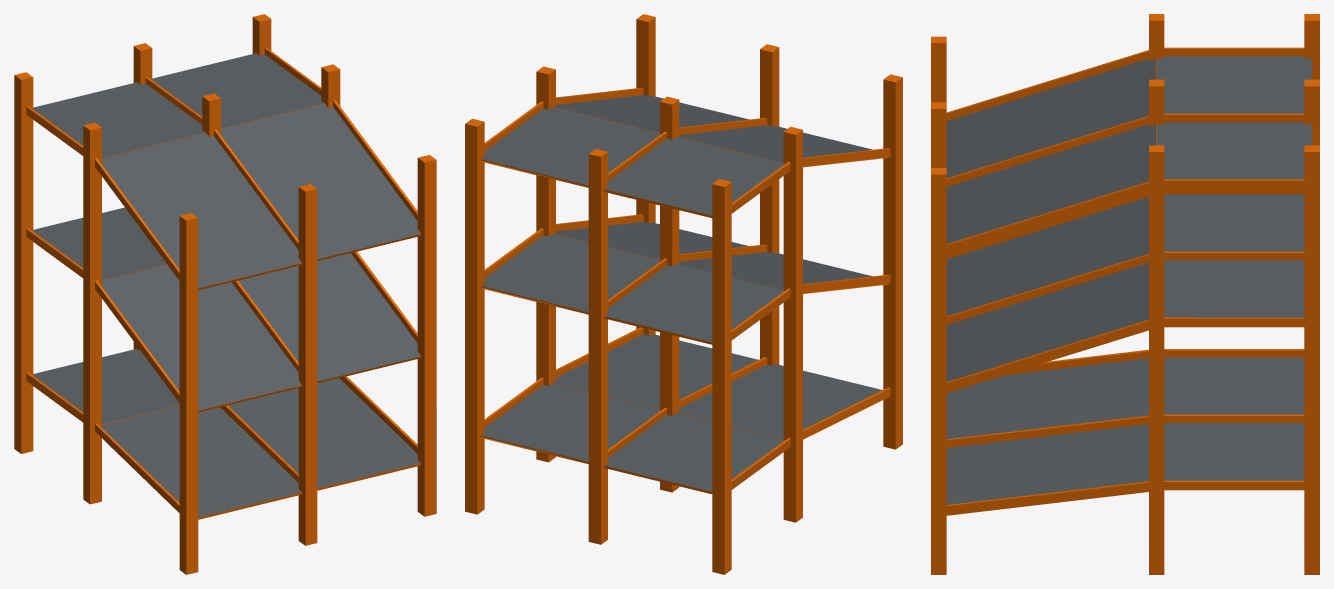
Rendered from Container_Rack_2x3.dae.
The picture shows the model from 3 angles, left to right: view 1: azimuth 30°, elevation 25°; view 2: azimuth 150°, elevation 25°; view 3: azimuth 270°, elevation 25°; orthographic projection. The views are drawn at different scales.
Visible parts, largest first — view 1: Container_Rack_2x3; view 2: Container_Rack_2x3; view 3: Container_Rack_2x3.
Boxes of the visible parts, <box> form: Container_Rack_2x3: <box>14,14,436,574</box>; Container_Rack_2x3: <box>465,14,902,574</box>; Container_Rack_2x3: <box>931,14,1319,574</box>.
Size of the model in its own units: 1.05 by 1.25 by 1.5.
2 materials, 2 textured.
